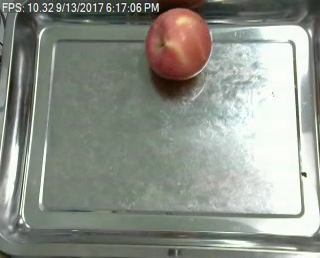Apple: (144, 6, 211, 81)
